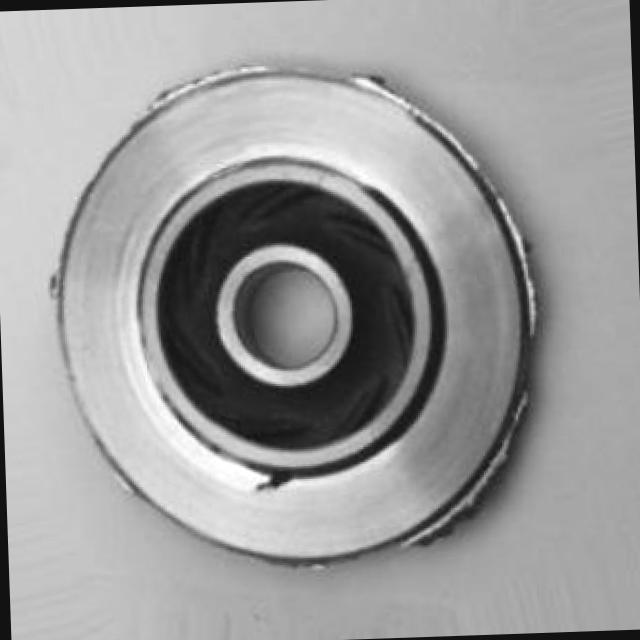Defect: (242, 458, 298, 499)
